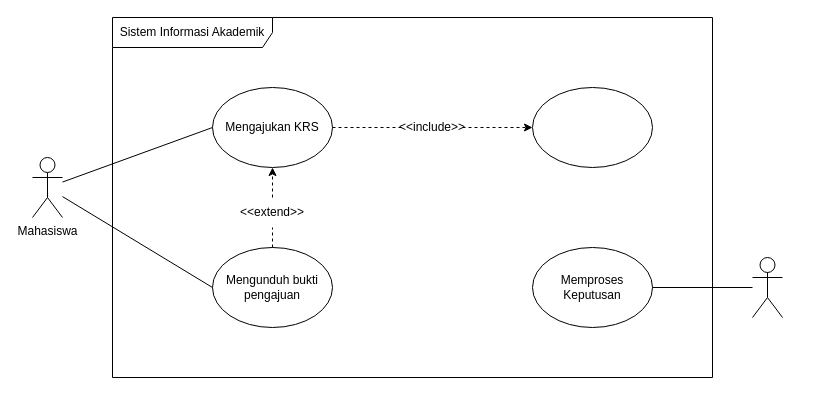
The diagram is 815 pixels wide and 395 high, and some of its shapes have lost their labels. Here are the shapes that lost their labels. From the top down, the box of each, then its label:
(532, 86, 652, 168): Validasi KRS
(752, 256, 782, 318): Dosen Wali
